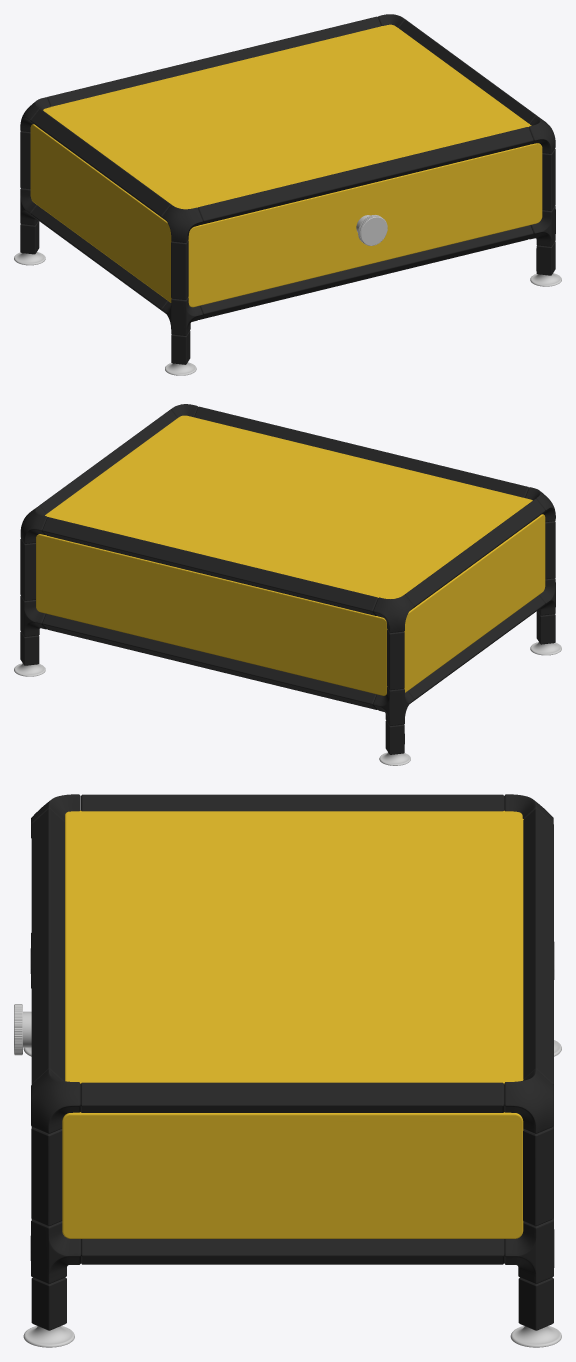
3 views of the same model, one above another, from view 1: azimuth 30°, elevation 25°; view 2: azimuth 150°, elevation 25°; view 3: azimuth 270°, elevation 25° (orthographic). The views are drawn at different scales.
Visible parts, largest first — view 1: 479x329x79; view 2: 479x329x79; view 3: 479x329x79.
Part boxes in pixels (x1=…): 479x329x79: x1=14, y1=14, x2=561, y2=375; 479x329x79: x1=14, y1=404, x2=561, y2=765; 479x329x79: x1=14, y1=794, x2=561, y2=1347.
Size of the model in its own units: 0.5689 by 0.2183 by 0.4257.
